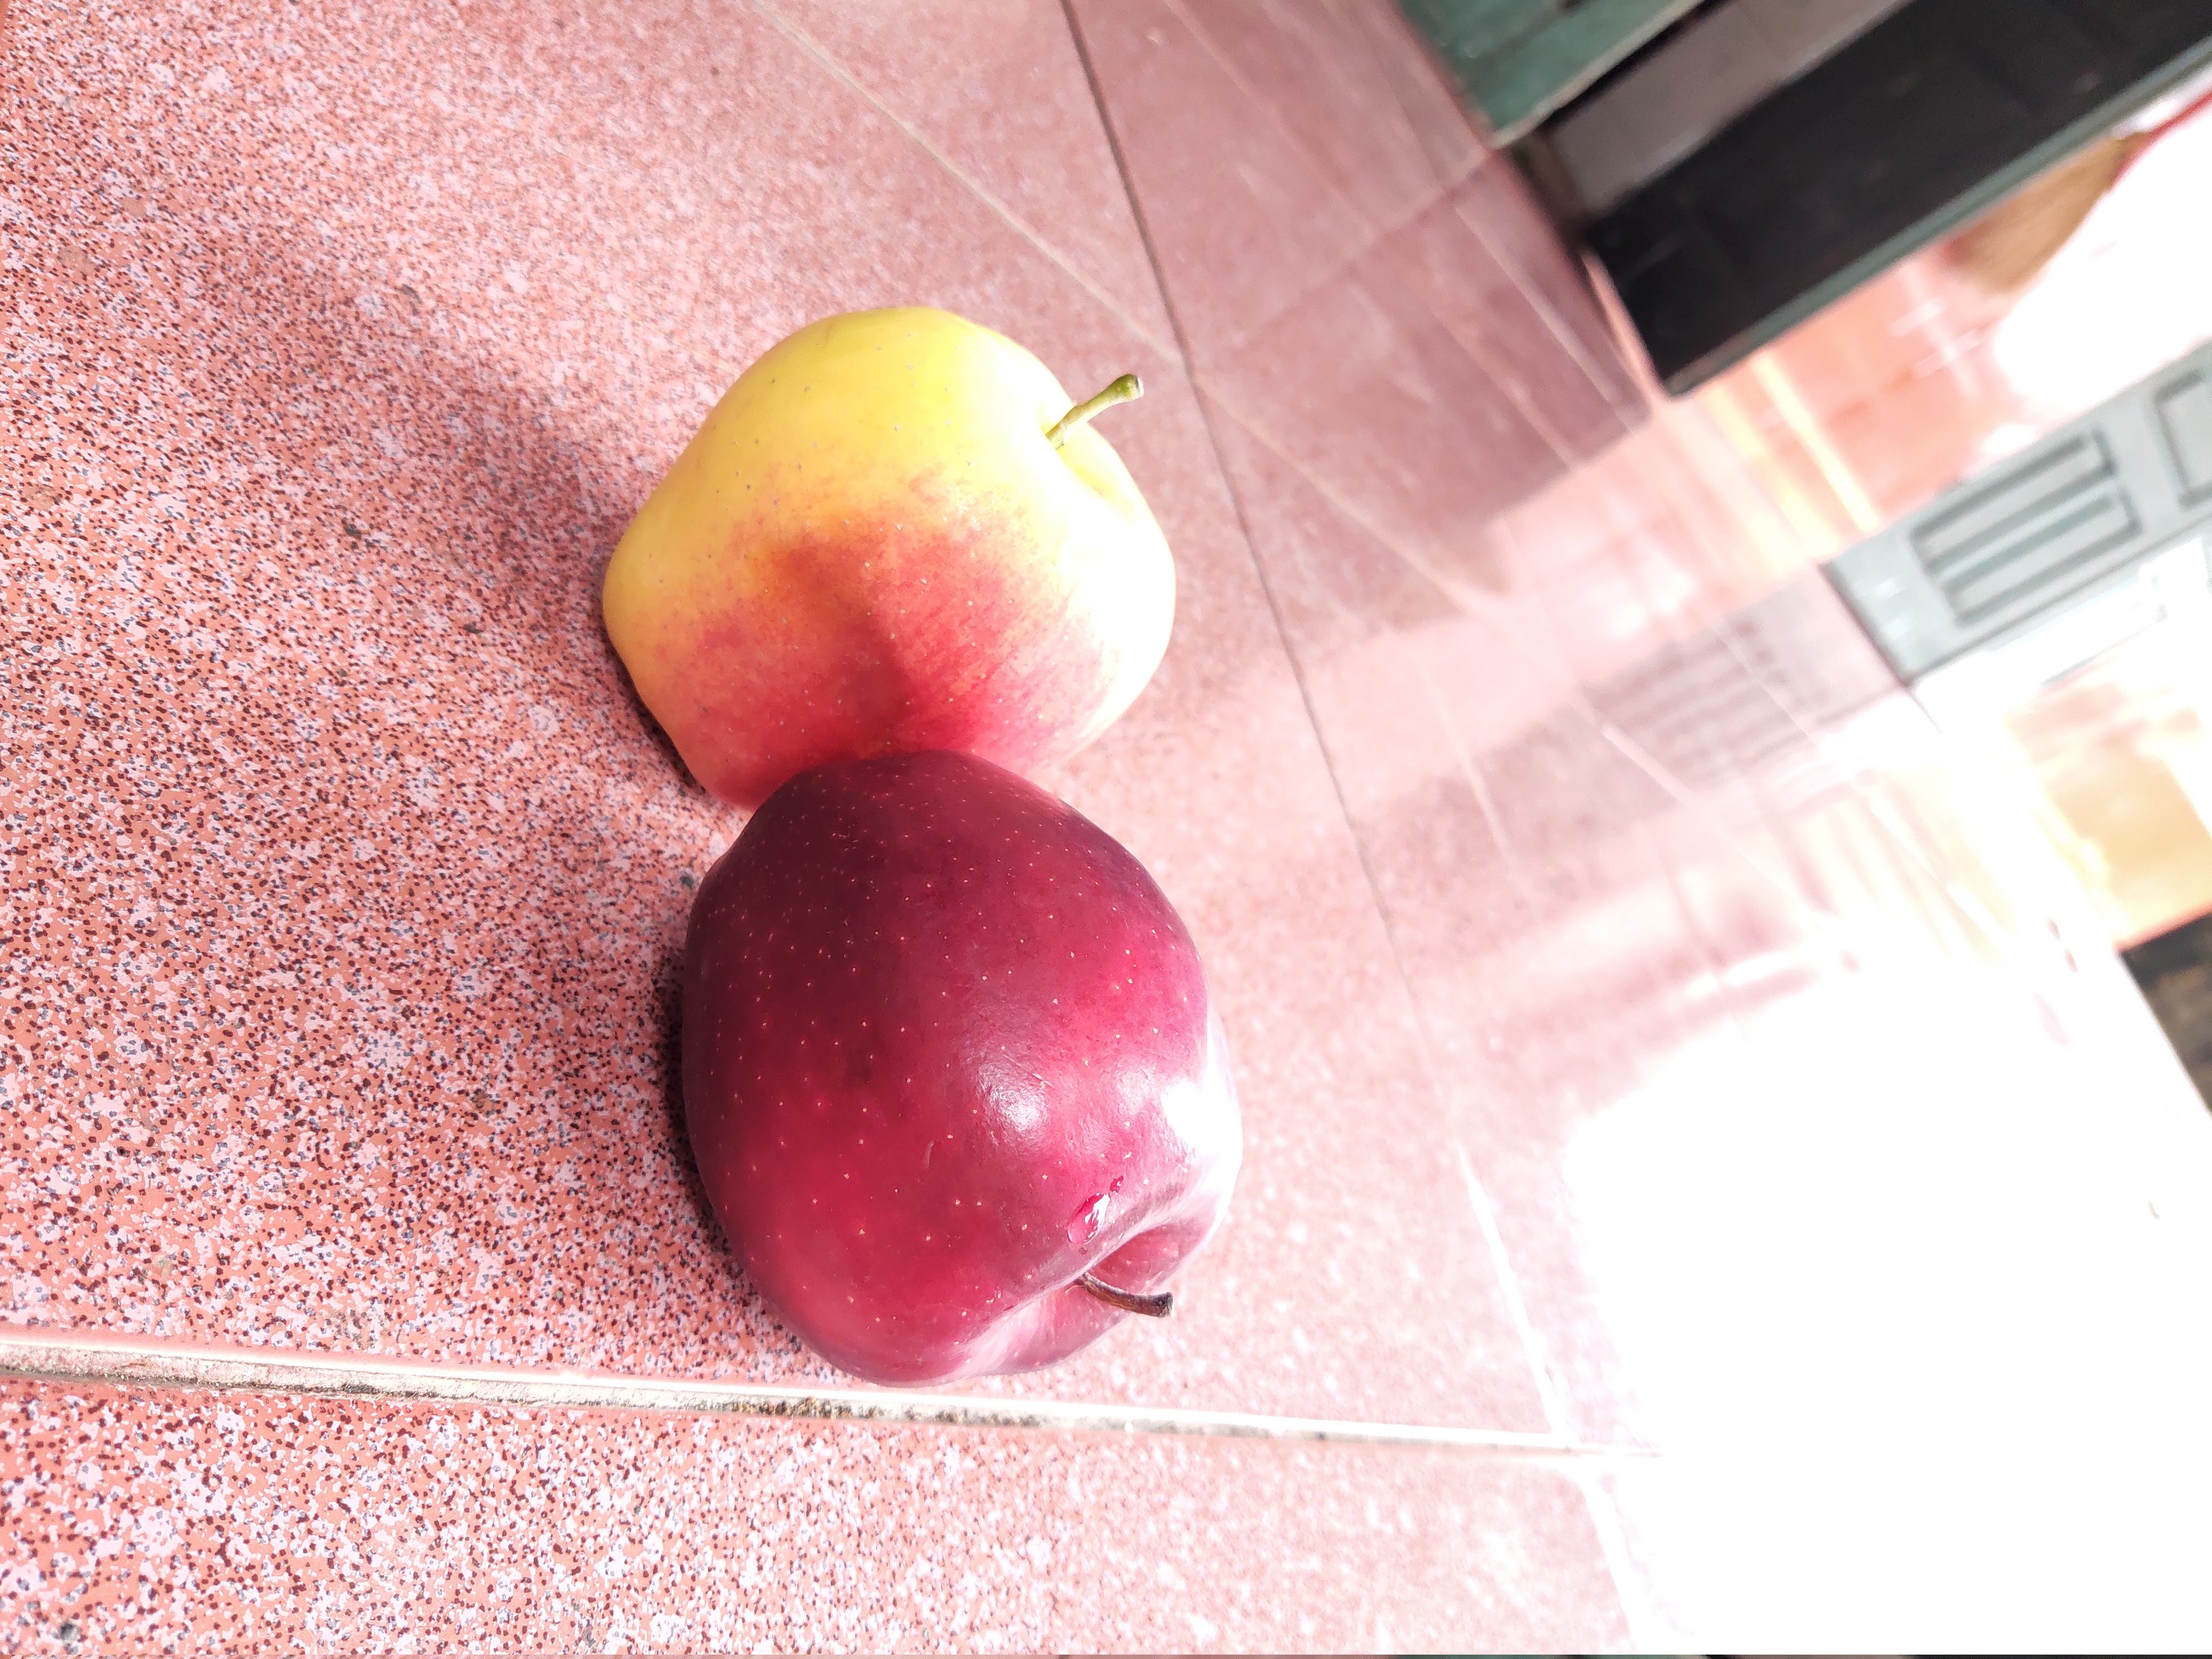apple: (665, 749, 1219, 1389), (594, 291, 1183, 817)
